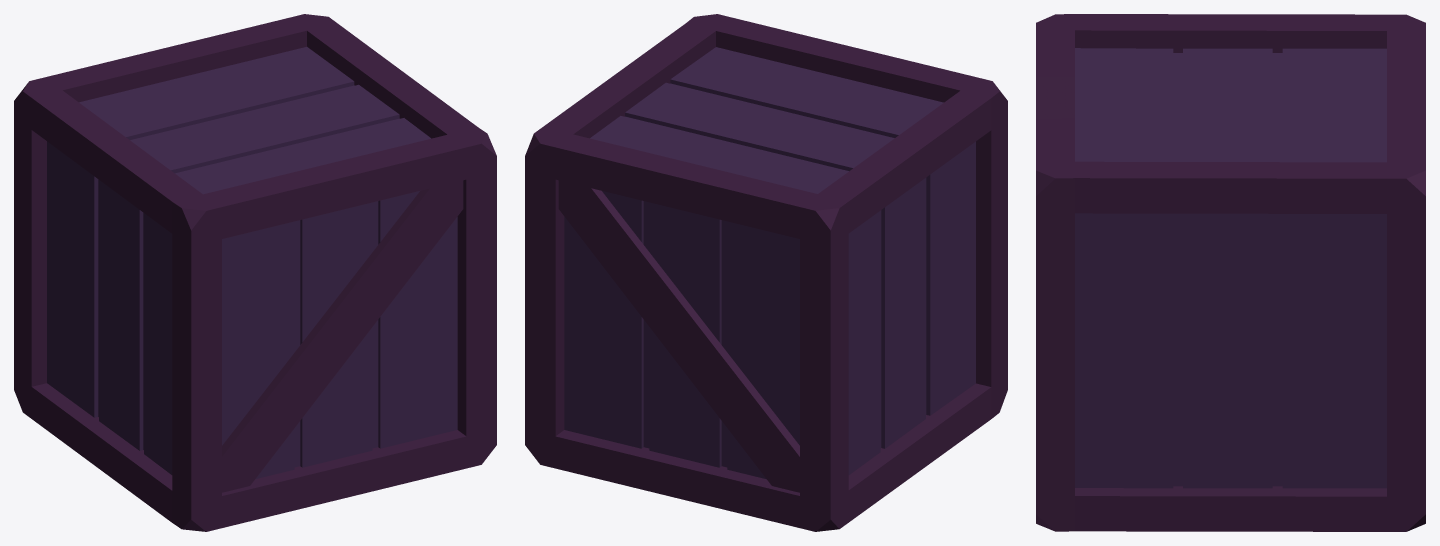
Rendered from SM_crate_large.fbx.
3 renders of one model, left to right at view 1: azimuth 30°, elevation 25°; view 2: azimuth 150°, elevation 25°; view 3: azimuth 270°, elevation 25°, orthographic. The views are drawn at different scales.
Visible parts, largest first — view 1: WoodenCrate_Big; view 2: WoodenCrate_Big; view 3: WoodenCrate_Big.
Boxes of the visible parts, <box> form: WoodenCrate_Big: <box>14,14,496,531</box>; WoodenCrate_Big: <box>525,14,1007,531</box>; WoodenCrate_Big: <box>1036,14,1425,531</box>.
Bounding box in the file's own units: 125 × 125 × 125.
